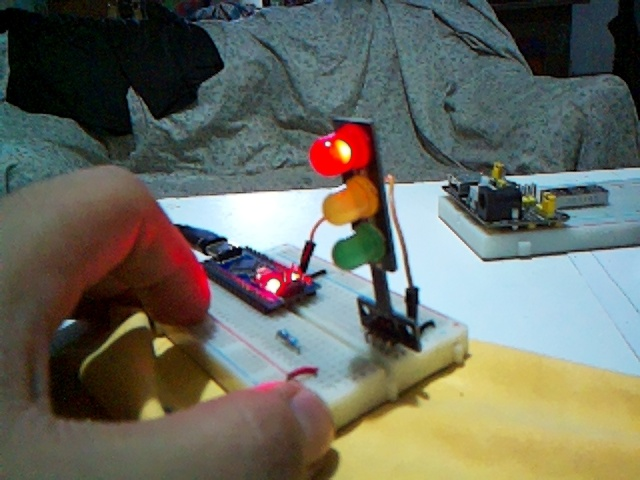traffic_light_red: (309, 118, 423, 349)
